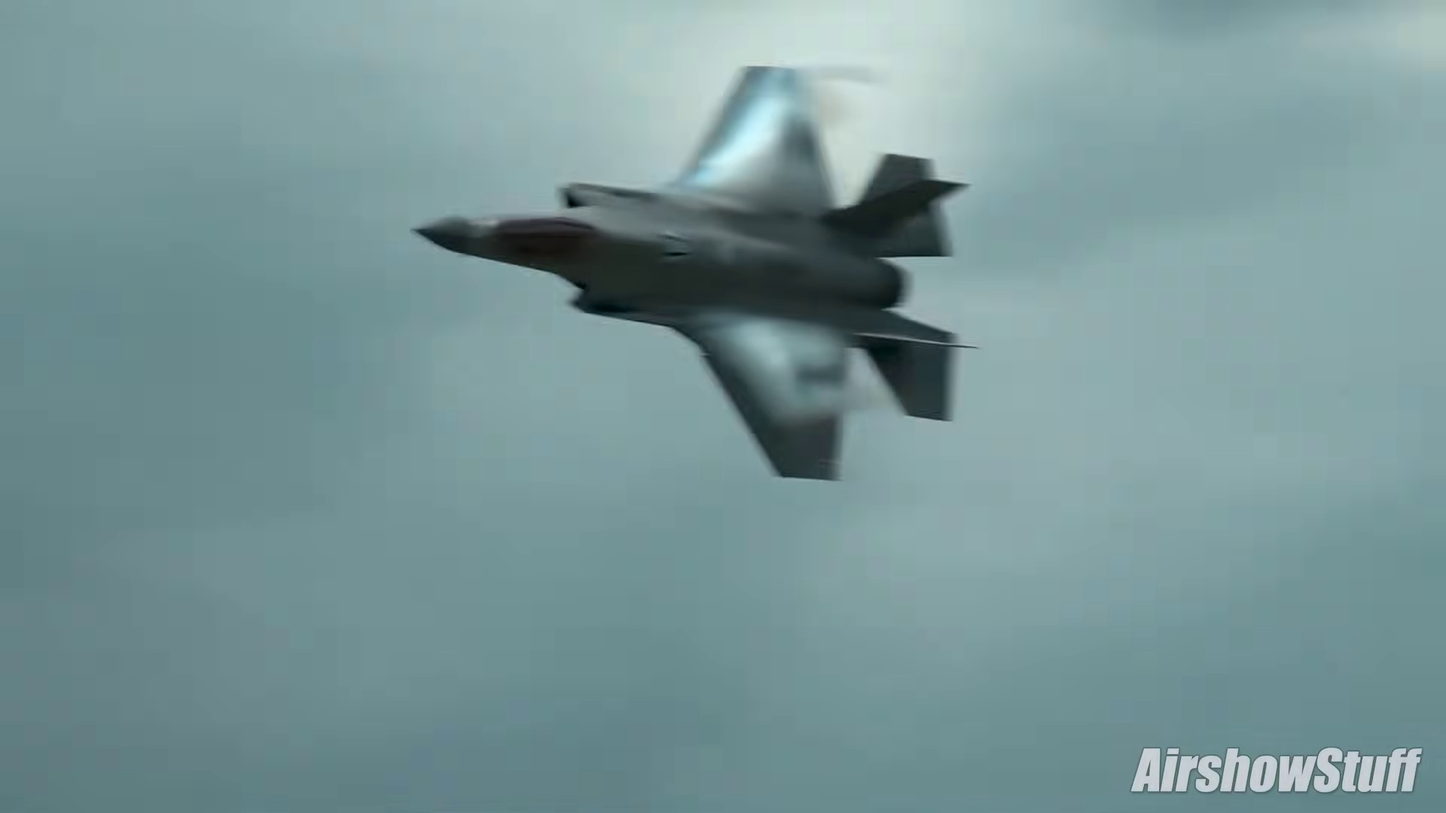F35: (407, 56, 983, 486)
